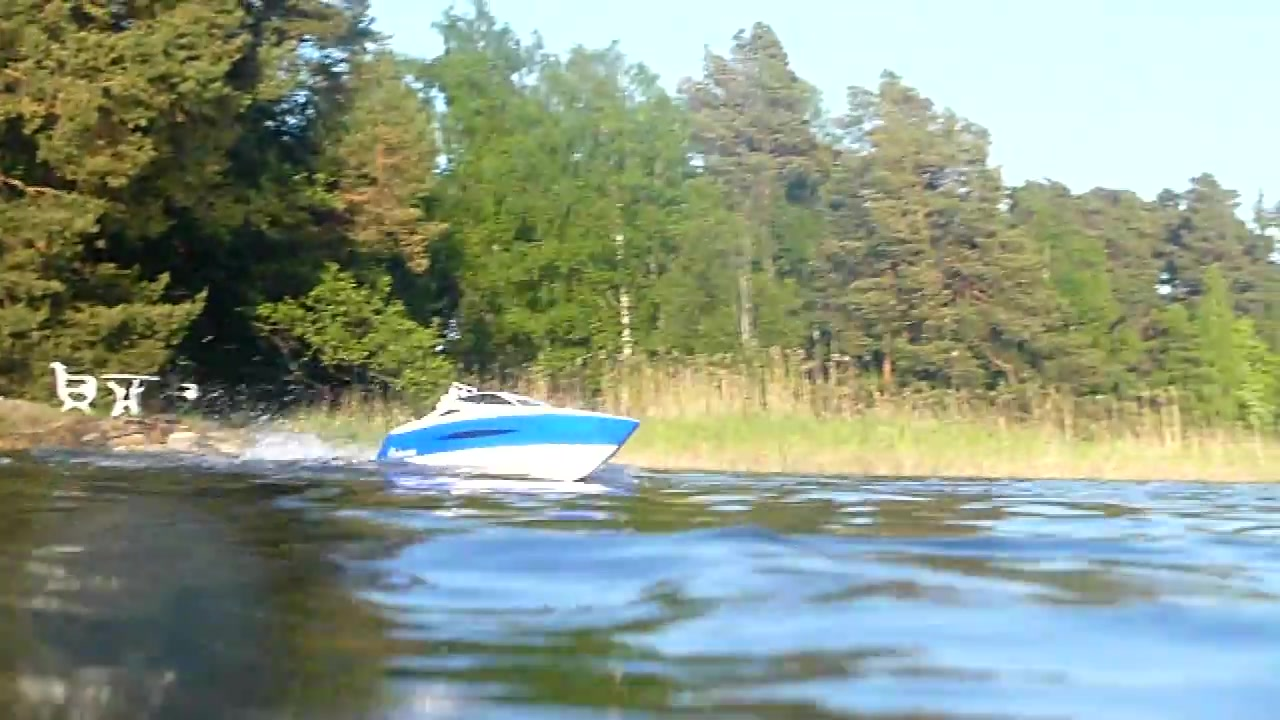boat: (369, 380, 645, 491)
